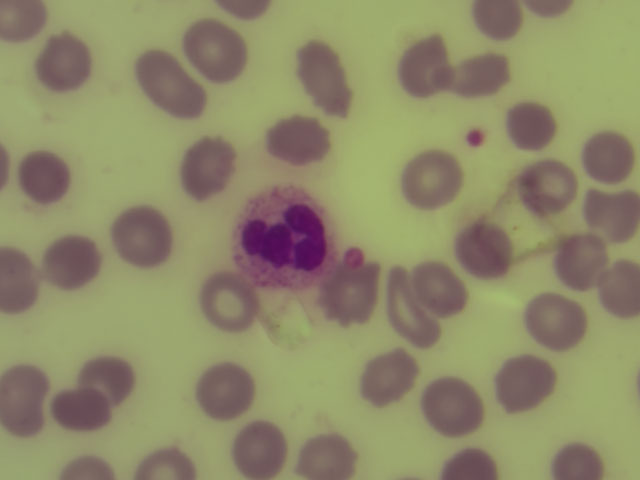Platelets: (465, 129, 487, 147), (347, 248, 362, 265)
RBC: (136, 45, 209, 119), (294, 37, 358, 114), (185, 18, 255, 80), (384, 268, 440, 344), (419, 378, 484, 440), (492, 354, 555, 416), (523, 292, 587, 352), (114, 206, 172, 267), (1, 366, 54, 432), (265, 116, 332, 167), (38, 34, 94, 89), (413, 260, 469, 315), (552, 234, 608, 289), (582, 181, 638, 236), (458, 222, 514, 277), (519, 158, 575, 213), (358, 351, 414, 406), (198, 362, 254, 417), (77, 345, 133, 400), (47, 382, 103, 437), (202, 274, 258, 329), (44, 232, 100, 287), (404, 152, 460, 207), (180, 139, 236, 194), (21, 150, 77, 205), (402, 35, 458, 90), (453, 47, 509, 102), (584, 128, 640, 183), (502, 95, 558, 150), (323, 262, 379, 317), (228, 421, 284, 476), (1, 250, 54, 308), (296, 432, 358, 480), (599, 258, 640, 322), (135, 440, 193, 480), (1, 1, 45, 53), (475, 1, 528, 41), (551, 442, 606, 480), (444, 445, 499, 480), (56, 454, 112, 480), (213, 1, 267, 22), (525, 1, 579, 21)
WBC: (233, 188, 338, 282)
